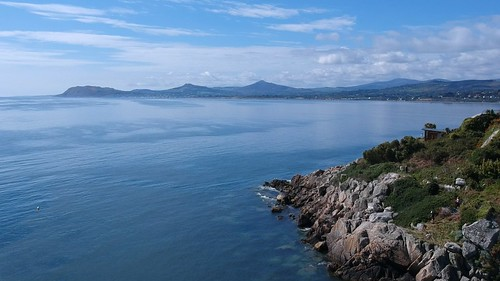mountain: (66, 68, 491, 100)
rocks: (287, 156, 424, 281)
sea: (1, 103, 442, 281)
sky: (1, 1, 496, 81)
vegetation: (404, 121, 500, 215)
